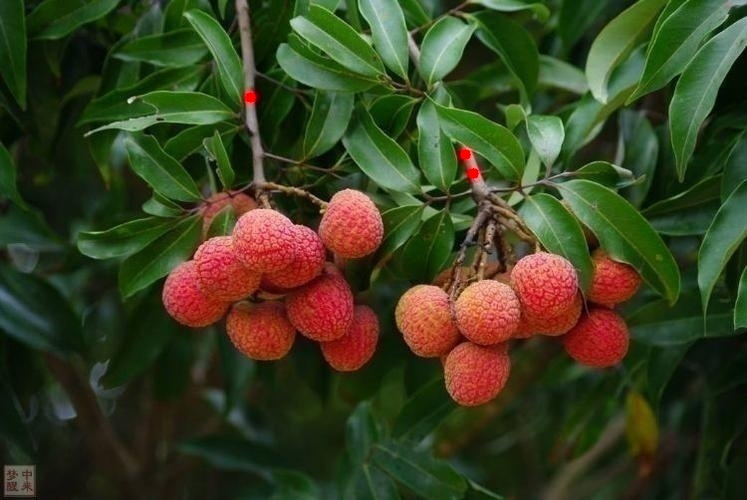litchi: (166, 193, 380, 366), (395, 251, 636, 403)
stem: (444, 89, 511, 227), (240, 50, 280, 193)
